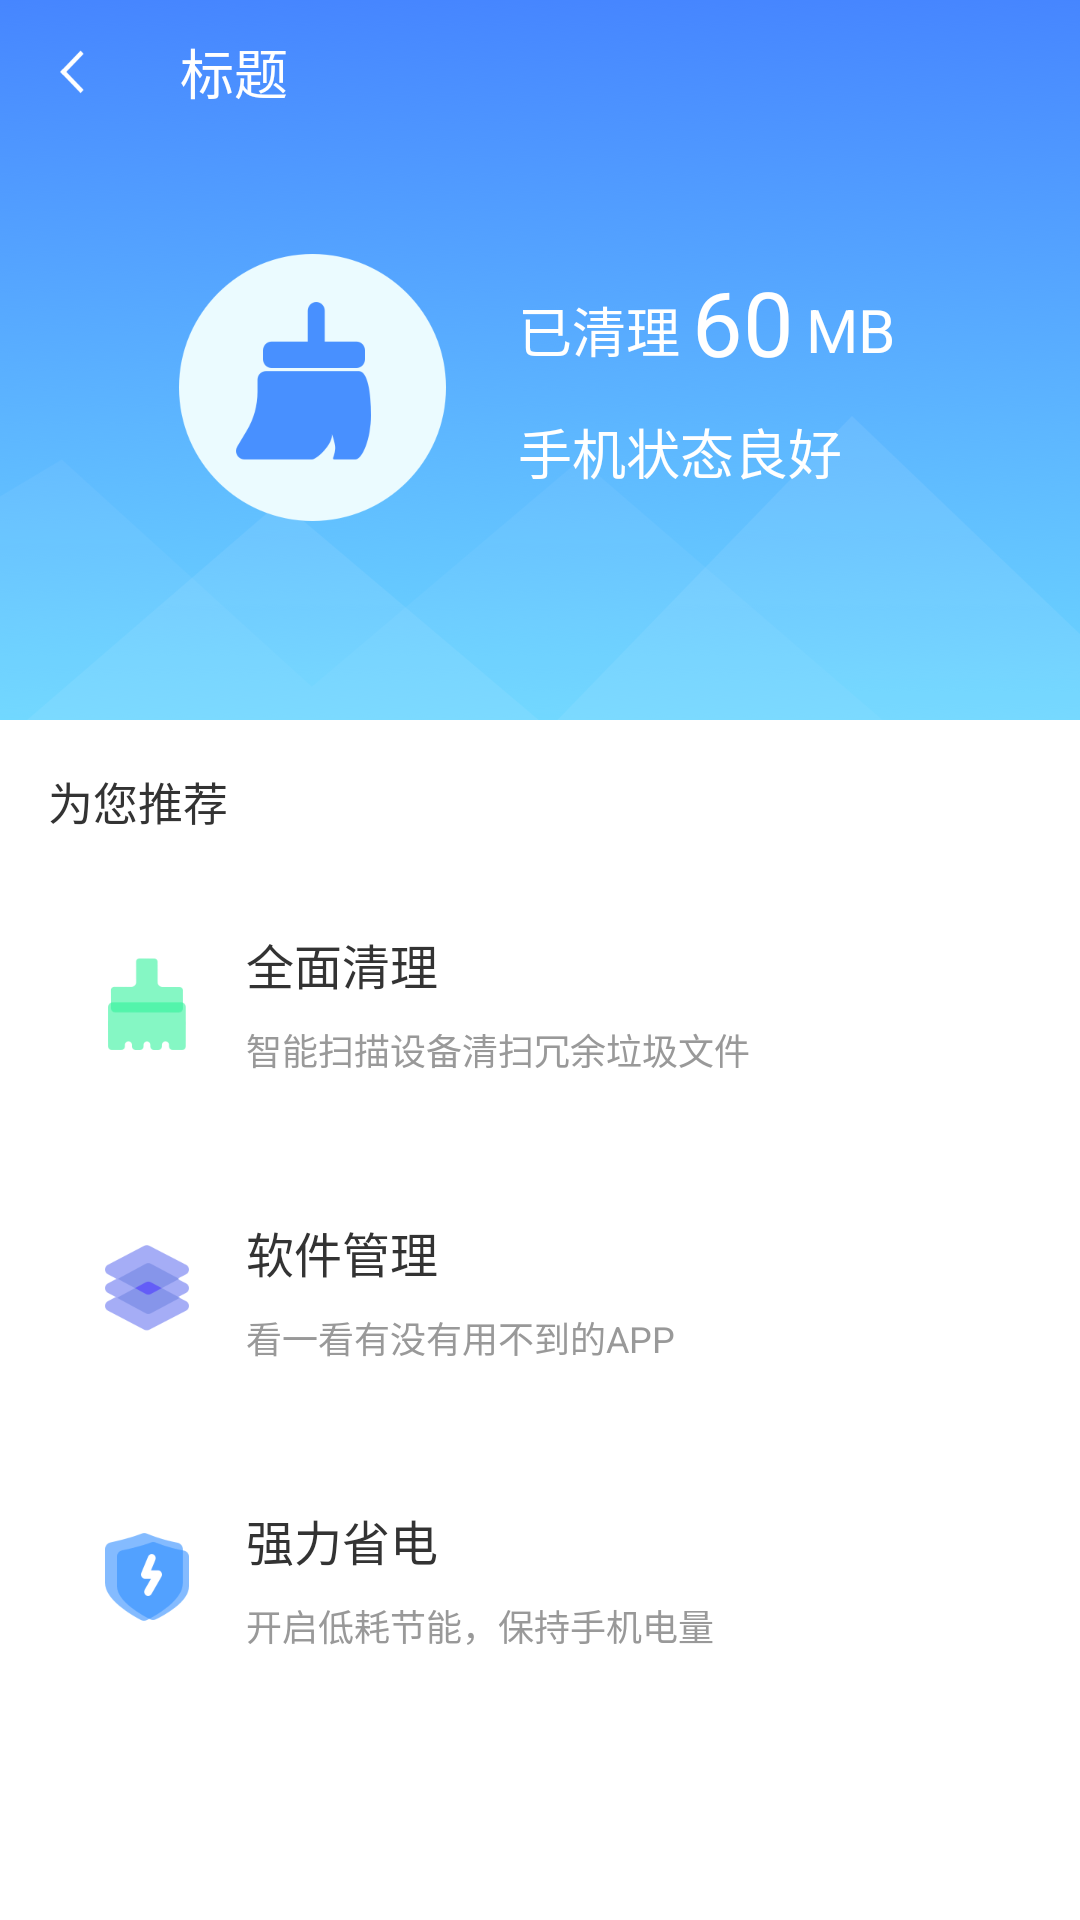

Icon click points for this 1080*1920 phone screenshot, format [x,y]:
back: [72,72]
clean: [312,387]
item scanning: [147,1004]
